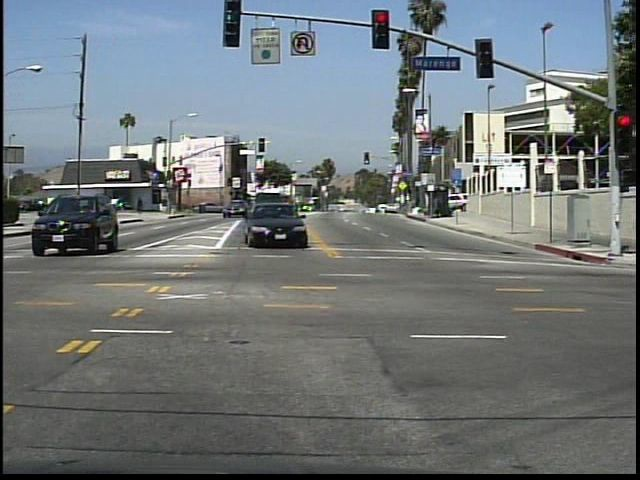person: (136, 195, 147, 217)
